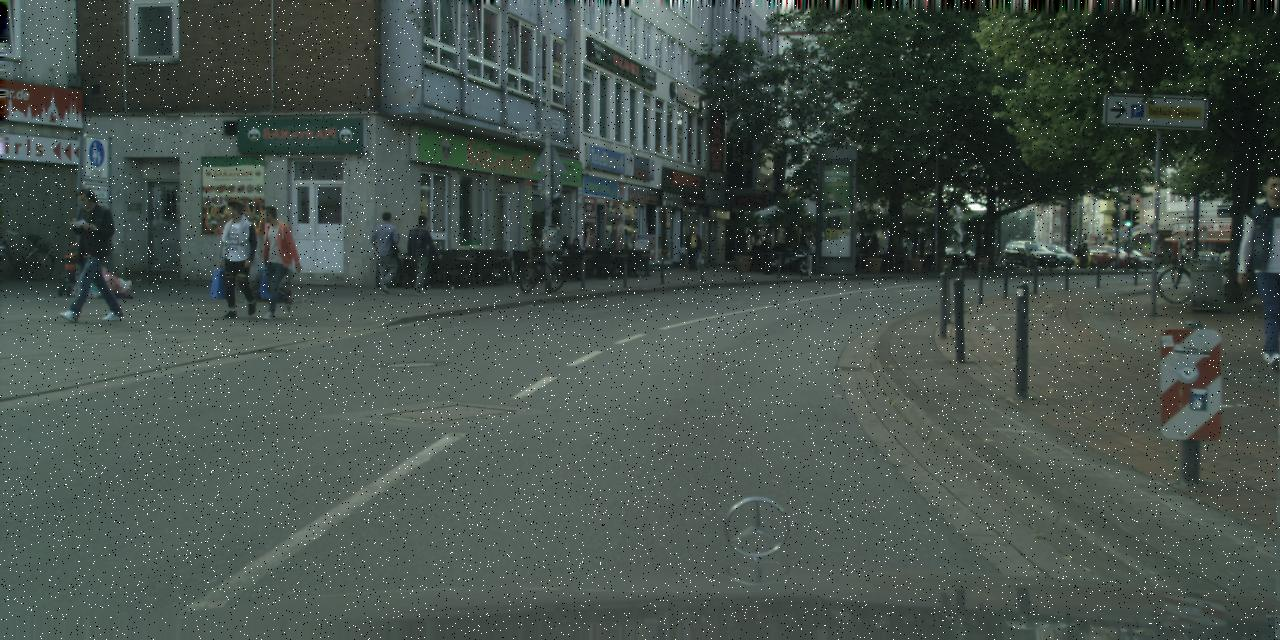ped: (1238, 172, 1279, 362), (62, 188, 116, 320), (216, 201, 262, 314), (253, 205, 297, 312), (369, 212, 402, 292), (404, 215, 436, 294), (684, 226, 702, 270), (1073, 243, 1090, 268), (759, 233, 772, 264), (810, 240, 821, 268), (856, 236, 870, 256)
